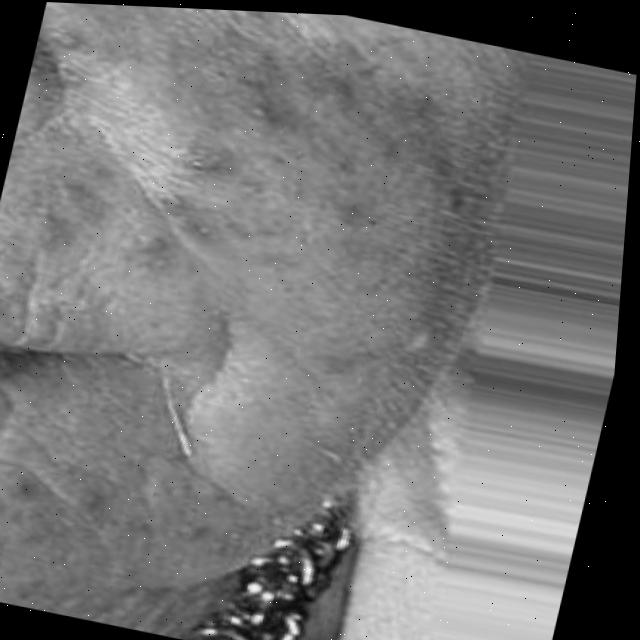Rosacea: (0, 1, 466, 302), (0, 460, 178, 568)
